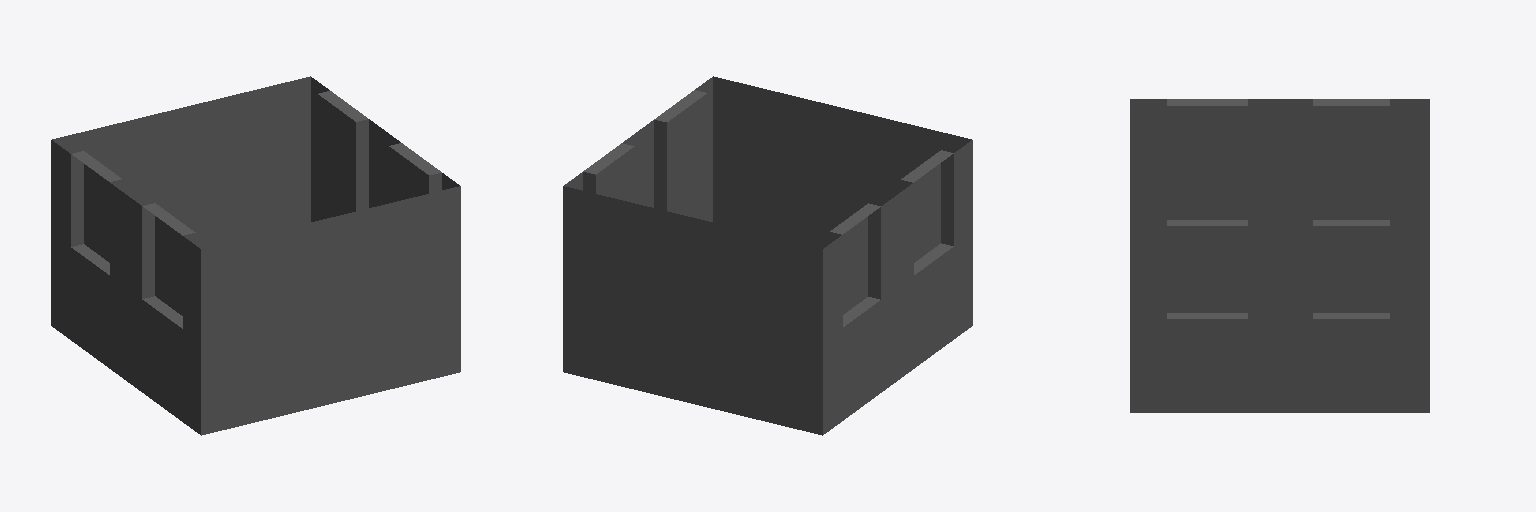
Rendered from blockItem2.obj.
The picture shows the model from 3 angles: view 1: azimuth 30°, elevation 25°; view 2: azimuth 150°, elevation 25°; view 3: azimuth 270°, elevation 25°; orthographic projection.
Parts seen in each view (by area): view 1: Cube_Cube.001_Cube_Cube.003; view 2: Cube_Cube.001_Cube_Cube.003; view 3: Cube_Cube.001_Cube_Cube.003.
Part boxes in pixels (bbox=[...]): Cube_Cube.001_Cube_Cube.003: bbox=[51, 76, 460, 435]; Cube_Cube.001_Cube_Cube.003: bbox=[563, 76, 972, 435]; Cube_Cube.001_Cube_Cube.003: bbox=[1130, 99, 1429, 412].
Bounding box in the file's own units: 10 × 6.86 × 10.